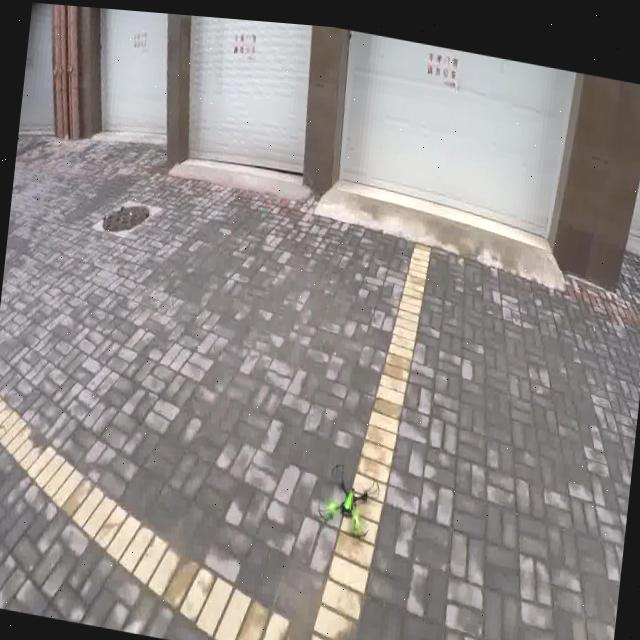drone: (307, 441, 392, 549)
